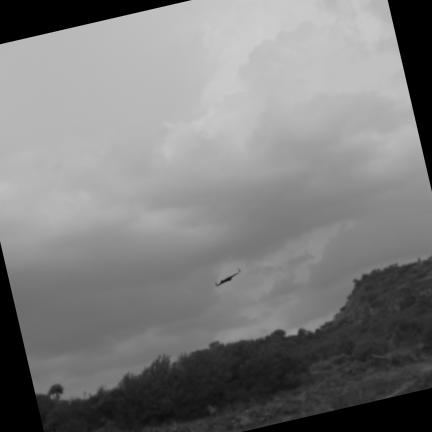Shahed: (216, 268, 239, 285)
